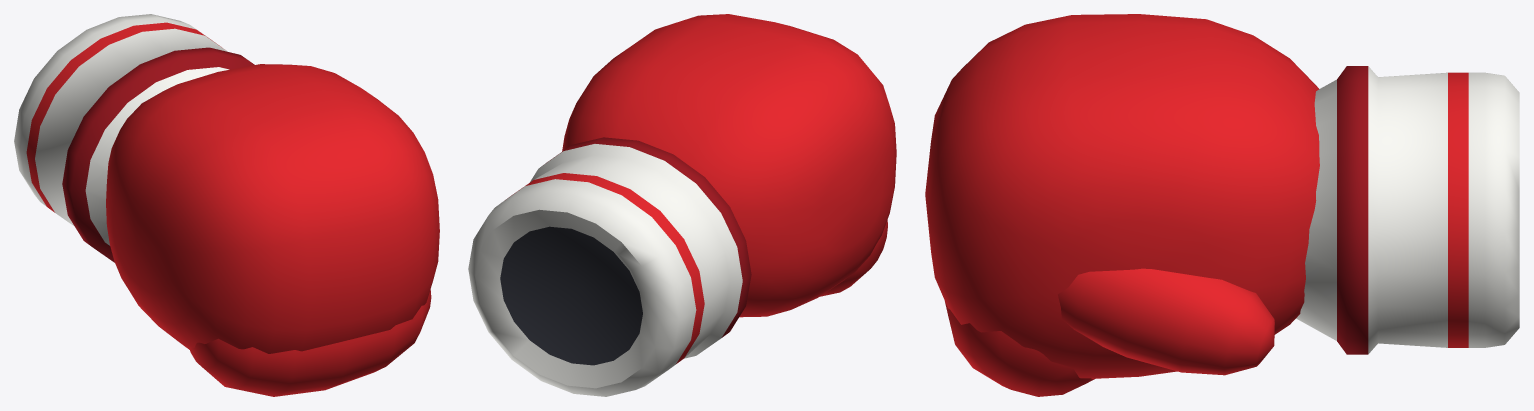
Rendered from Prop_BoxingGlove.fbx.
3 views of the same model, side by side, from view 1: azimuth 30°, elevation 25°; view 2: azimuth 150°, elevation 25°; view 3: azimuth 270°, elevation 25° (orthographic). The views are drawn at different scales.
Parts seen in each view (by area): view 1: Prop_BoxingGlove; view 2: Prop_BoxingGlove; view 3: Prop_BoxingGlove.
Part boxes in pixels (box(x1,y1,x2,y2)): Prop_BoxingGlove: box(14, 14, 439, 396); Prop_BoxingGlove: box(468, 14, 896, 396); Prop_BoxingGlove: box(925, 14, 1519, 396).
Bounding box in the file's own units: 0.4957 × 0.4357 × 0.722.
Materials: 1 (1 with a texture image).
